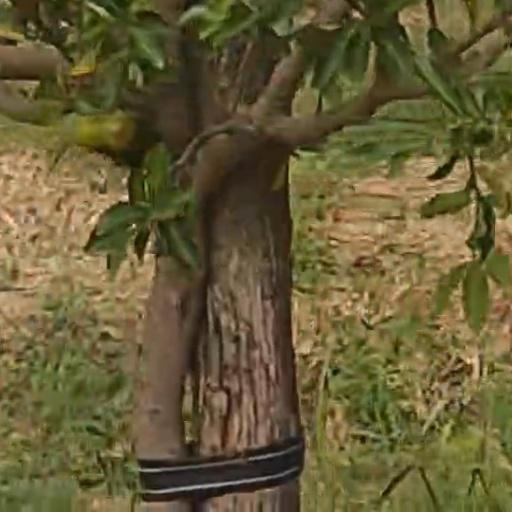acerola_verde: (76, 117, 104, 147)
acerola_vermelha: (103, 119, 140, 154)
